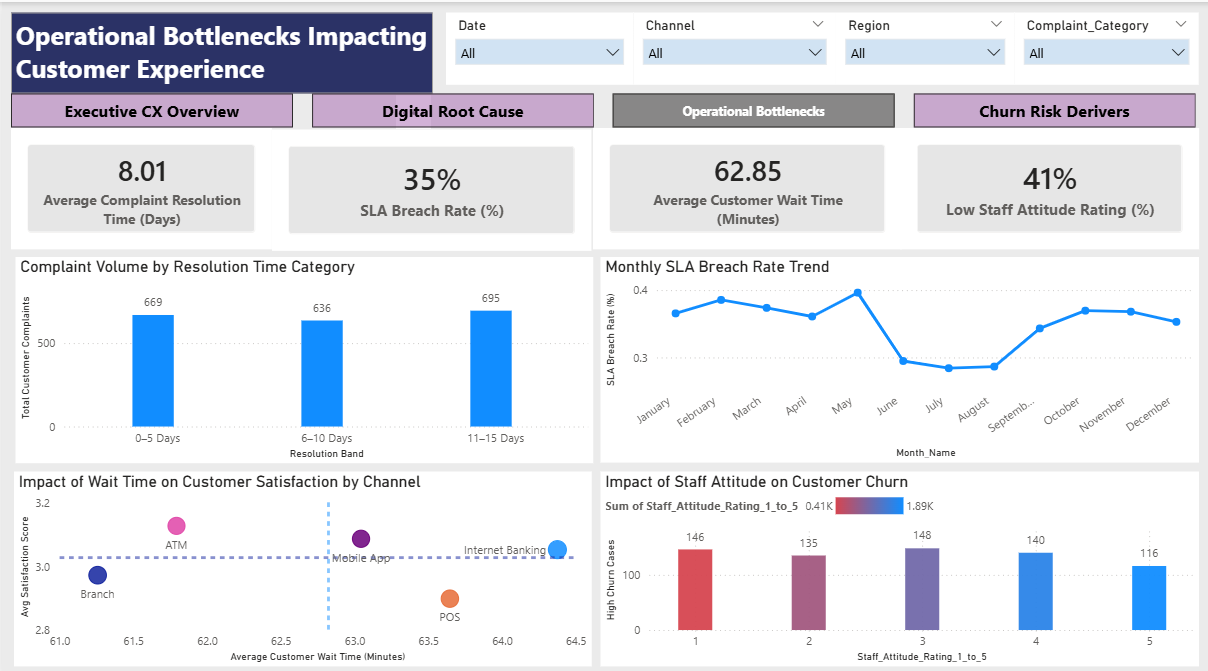

What the dashboard file says about the page in this screenshot:
{"tool":"powerbi","page":{"name":"Operational Bottlenecks","canvas":[1280,720],"ordinal":2},"visuals":[{"type":"textbox","box":[9.5,11.1,447,85.9],"z":0},{"type":"cardVisual","fields":{"Data":["Fact_Complaints.Avg Resolution Time (Days)"]},"box":[9.5,133.6,276.8,128.8],"z":1000},{"type":"cardVisual","fields":{"Data":["Fact_Complaints.SLA Breach %"]},"box":[286.3,135.2,338.8,128.8],"z":2000},{"type":"cardVisual","fields":{"Data":["Fact_Complaints.Avg Wait Time (Minutes)"]},"box":[626.7,133.6,327.7,128.8],"z":3000},{"type":"cardVisual","fields":{"Data":["Fact_Complaints.Low Staff Rating %"]},"box":[952.8,133.6,316.5,128.8],"z":4000},{"type":"clusteredColumnChart","title":"Complaint Volume by Resolution Time Category","fields":{"Y":["Fact_Complaints.Total Complaints"],"Category":["Dim_Resolution_Band.Resolution Band"]},"box":[14.3,269.9,612.4,218.4],"z":5000},{"type":"lineChart","title":"Monthly SLA Breach Rate Trend","fields":{"Y":["Fact_Complaints.SLA Breach %"],"Category":["Dim_Date.Month_Name"]},"box":[634.7,270.4,634.7,217.9],"z":6000},{"type":"scatterChart","title":"Impact of Wait Time on Customer Satisfaction by Channel","fields":{"X":["Fact_Complaints.Avg Wait Time (Minutes)"],"Series":["Dim_Channel.Channel"],"Size":["Fact_Complaints.Total Complaints"],"Y":["Fact_Complaints.Avg Satisfaction Score"]},"box":[12.7,497.9,612.4,206.8],"z":7000},{"type":"clusteredColumnChart","title":"Impact of Staff Attitude on Customer Churn","fields":{"Category":["Fact_Complaints.Staff_Attitude_Rating_1_to_5"],"Y":["Fact_Complaints.High Churn Cases"]},"box":[634.7,497.9,634.7,206.8],"z":8000},{"type":"slicer","fields":{"Values":["Dim_Date.Date"]},"box":[470.8,11.1,198.8,76.3],"z":9000},{"type":"slicer","fields":{"Values":["Dim_Channel.Channel"]},"box":[669.6,11.1,214.7,76.3],"z":10000},{"type":"slicer","fields":{"Values":["Dim_Branch.Region"]},"box":[884.4,11.1,189.3,76.3],"z":11000},{"type":"slicer","fields":{"Values":["Dim_Complaint.Complaint_Category"]},"box":[1073.7,11.1,195.6,76.3],"z":12000},{"type":"pageNavigator","box":[9.5,97,1259.8,36.6],"z":13000}]}

Visuals, with their boxes in screenshot pixels (x1, y1, x2, y2), scaled from the page's 1280x720 canvas onto the 1208x671 screenshot:
textbox: select_region(9, 10, 431, 90)
cardVisual - Fact_Complaints.Avg Resolution Time (Days): select_region(9, 125, 270, 245)
cardVisual - Fact_Complaints.SLA Breach %: select_region(270, 126, 590, 246)
cardVisual - Fact_Complaints.Avg Wait Time (Minutes): select_region(591, 125, 901, 245)
cardVisual - Fact_Complaints.Low Staff Rating %: select_region(899, 125, 1198, 245)
"Complaint Volume by Resolution Time Category" clusteredColumnChart: select_region(13, 252, 591, 455)
"Monthly SLA Breach Rate Trend" lineChart: select_region(599, 252, 1198, 455)
"Impact of Wait Time on Customer Satisfaction by Channel" scatterChart: select_region(12, 464, 590, 657)
"Impact of Staff Attitude on Customer Churn" clusteredColumnChart: select_region(599, 464, 1198, 657)
slicer - Dim_Date.Date: select_region(444, 10, 632, 81)
slicer - Dim_Channel.Channel: select_region(632, 10, 835, 81)
slicer - Dim_Branch.Region: select_region(835, 10, 1013, 81)
slicer - Dim_Complaint.Complaint_Category: select_region(1013, 10, 1198, 81)
pageNavigator: select_region(9, 90, 1198, 125)
